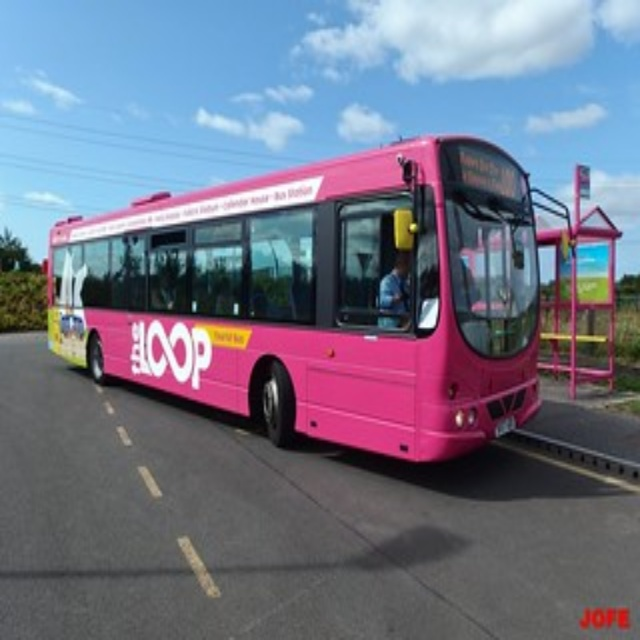Bus: (44, 133, 540, 464)
